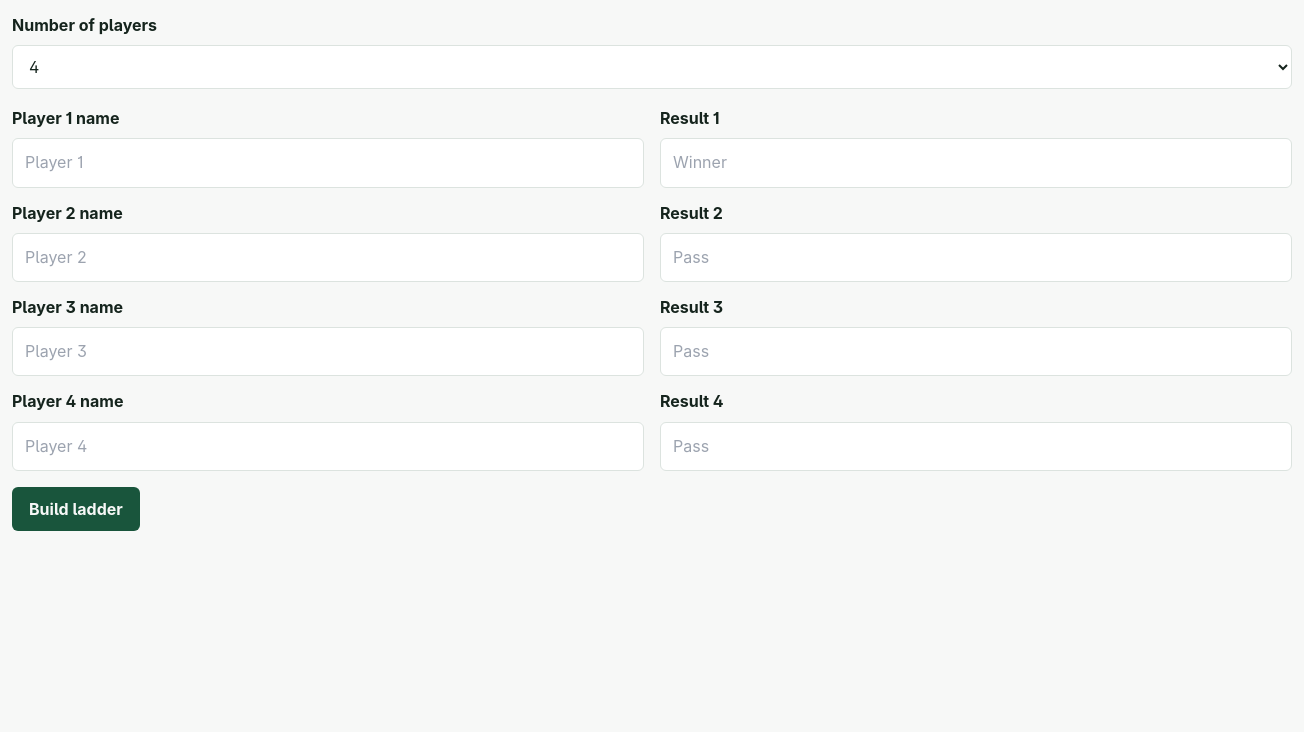
Test: LadderGameTool › resizes name and result fields when the player count changes
The width and height of the screenshot is (1304, 732).
Select "5" in the dropdown labelled "Number of players": (652, 67) [12,45,1292,89]
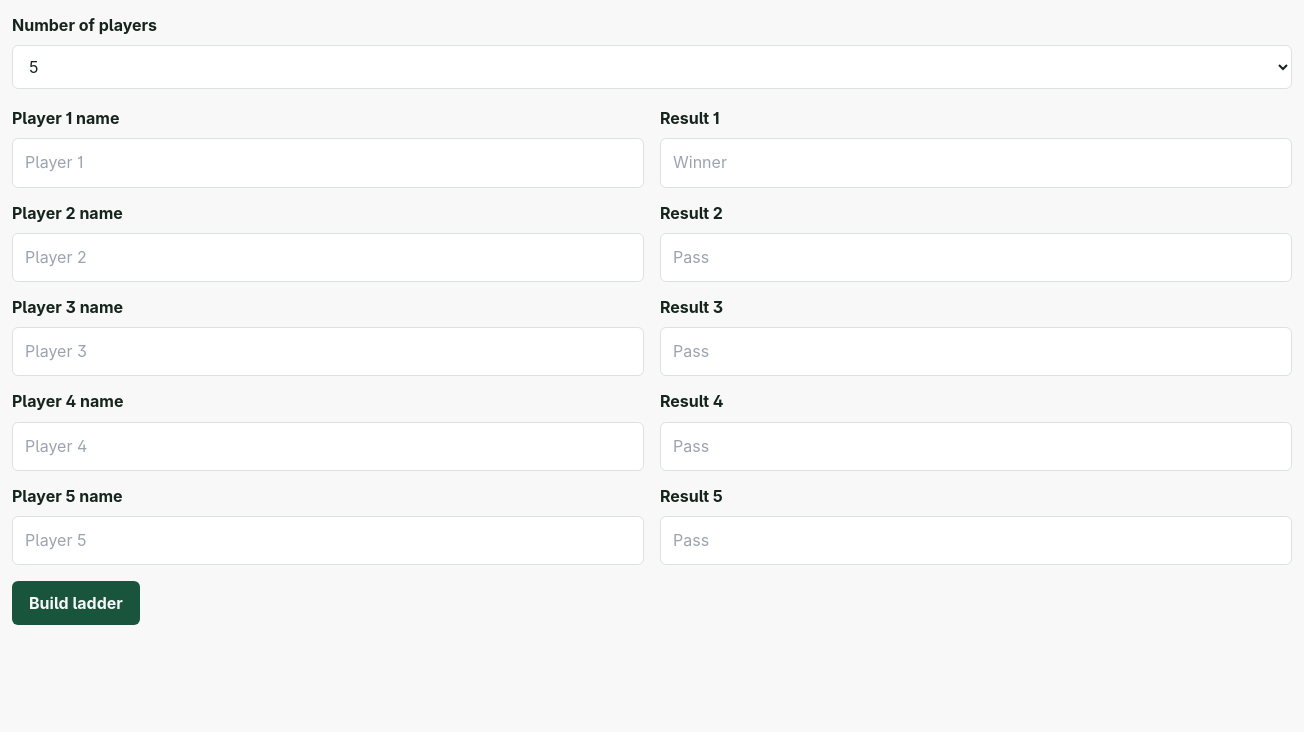
Now the field labelled "Player 5 name" is shown, box [12,516,644,565]
Now the field labelled "Result 5" is shown, box [660,516,1292,565]
Select "2" in the dropdown labelled "Number of players": (652, 67) [12,45,1292,89]
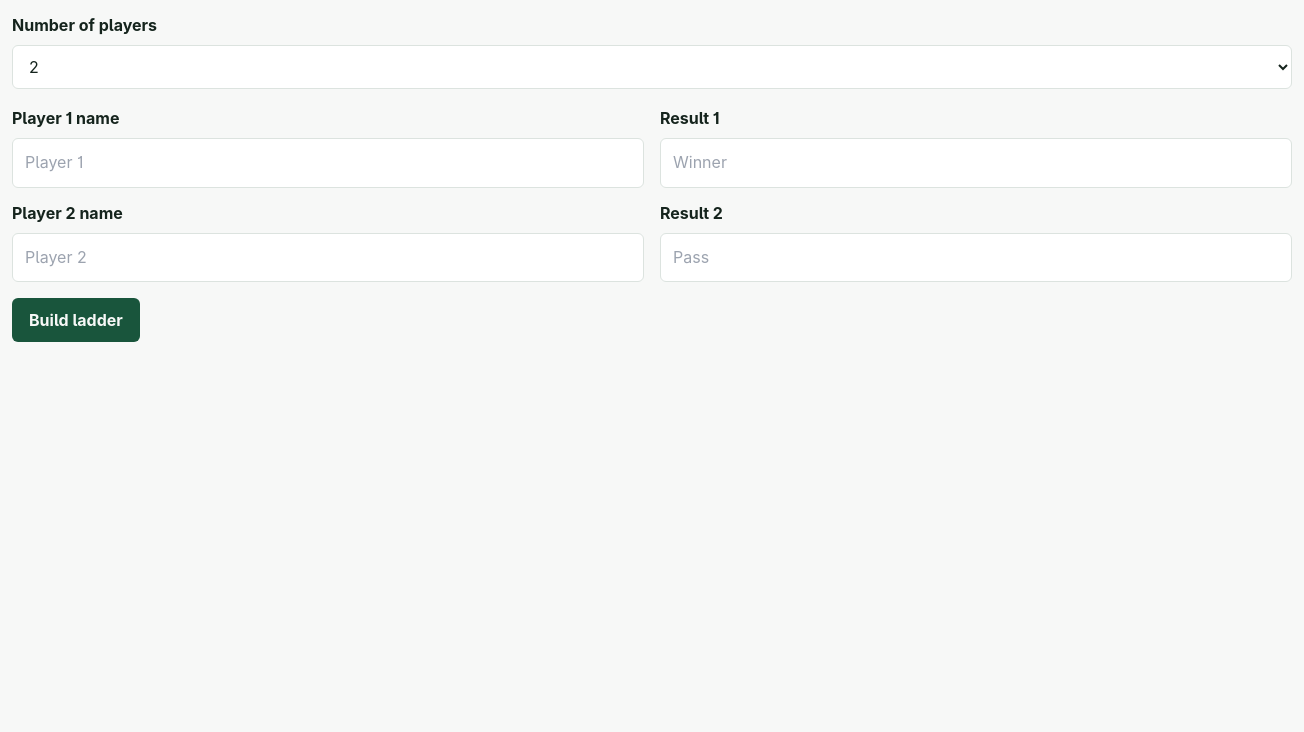
Now the label labelled "Player 3 name" is gone
